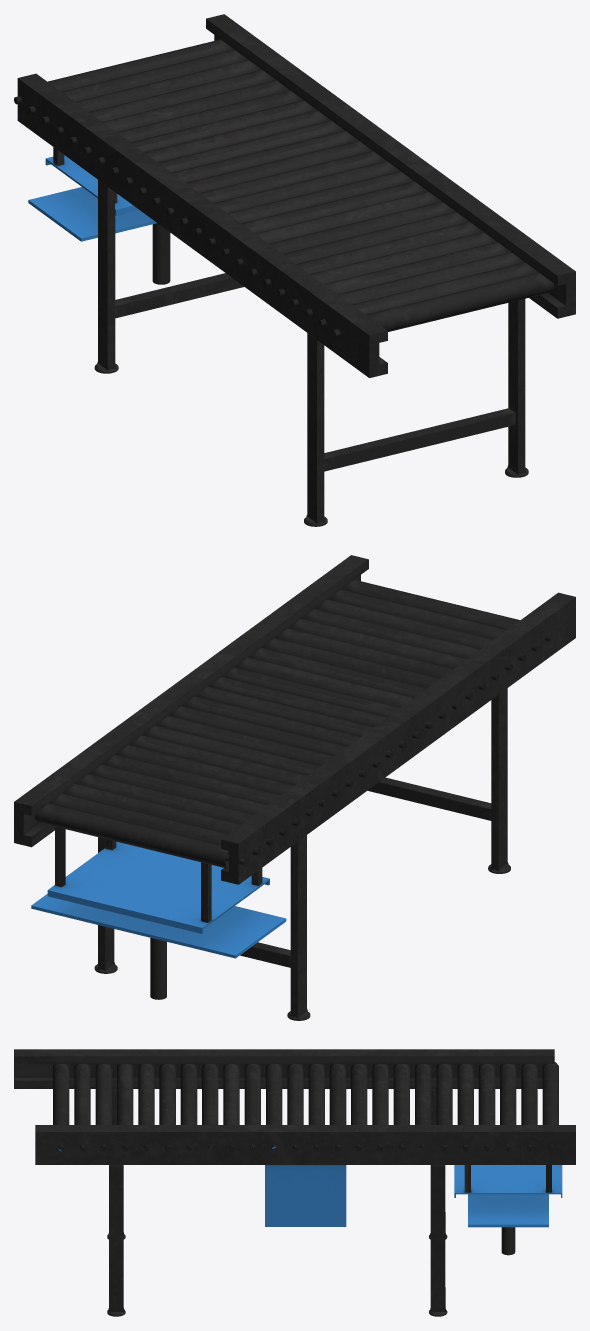
File: Shusongxian_l.FBX
The picture shows the model from 3 angles, top to bottom: view 1: azimuth 30°, elevation 25°; view 2: azimuth 150°, elevation 25°; view 3: azimuth 270°, elevation 25°; orthographic projection. The views are drawn at different scales.
Visible parts, largest first — view 1: Shusongxian_l; view 2: Shusongxian_l; view 3: Shusongxian_l.
Part boxes in pixels (<box>): Shusongxian_l: <box>14,14,575,526</box>; Shusongxian_l: <box>14,555,575,1020</box>; Shusongxian_l: <box>14,1049,575,1316</box>.
Size of the model in its own units: 1916 by 1900 by 5280.
